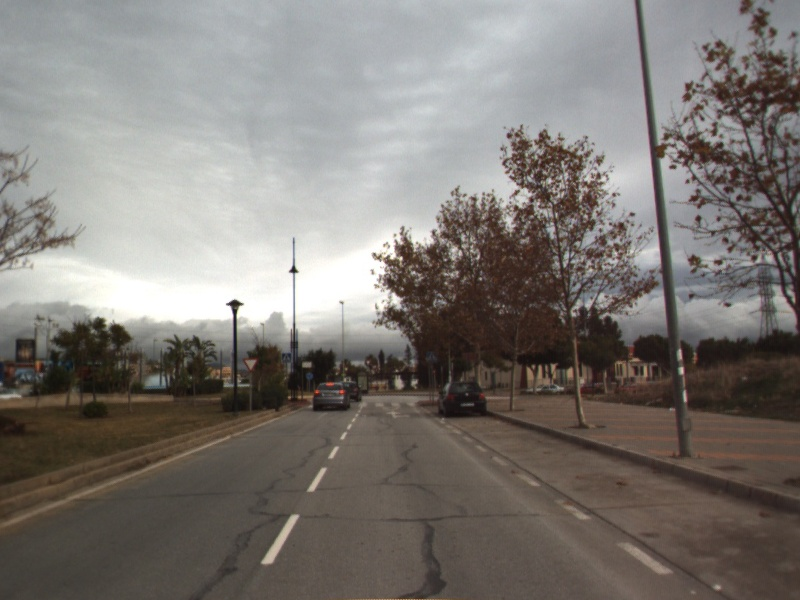STRAIGHT_RIGHT: (383, 409, 413, 420)
